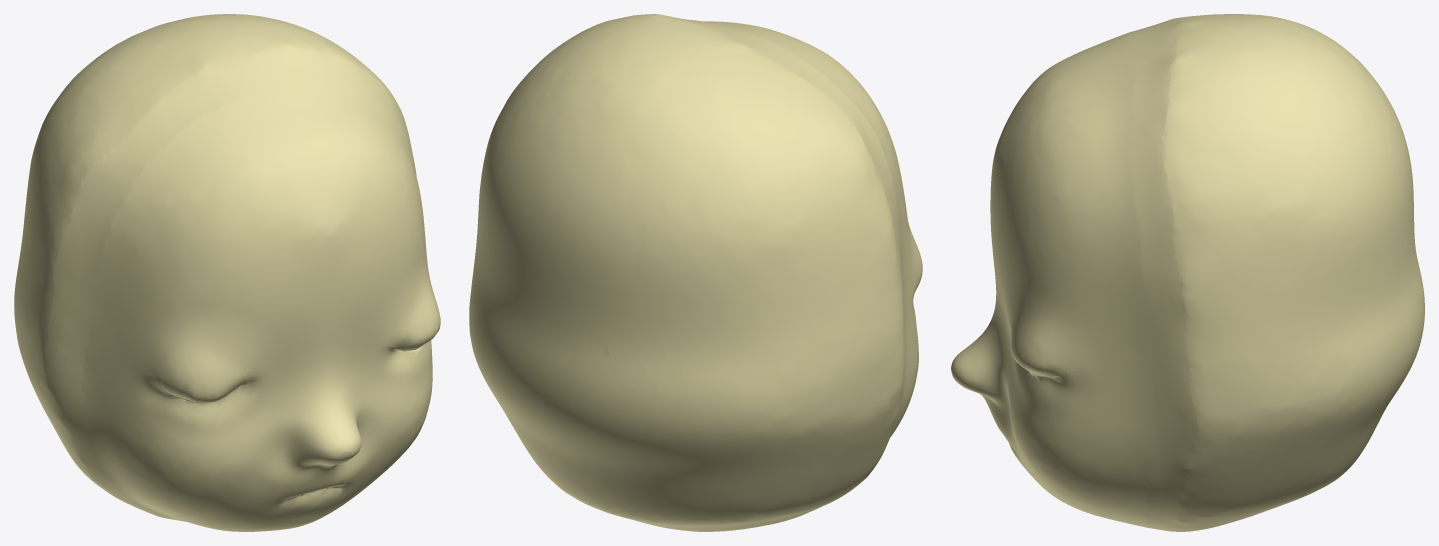
Rendered from CHILDanimation.Face.fbx.
3 renders of one model, left to right at view 1: azimuth 30°, elevation 25°; view 2: azimuth 150°, elevation 25°; view 3: azimuth 270°, elevation 25°, orthographic. The views are drawn at different scales.
Visible parts, largest first — view 1: model.004; view 2: model.004; view 3: model.004.
Part boxes in pixels (box(x1,y1,x2,y2)): model.004: box(14, 14, 440, 531); model.004: box(469, 14, 922, 531); model.004: box(951, 14, 1424, 531).
Size of the model in its own units: 140 by 164 by 146.
